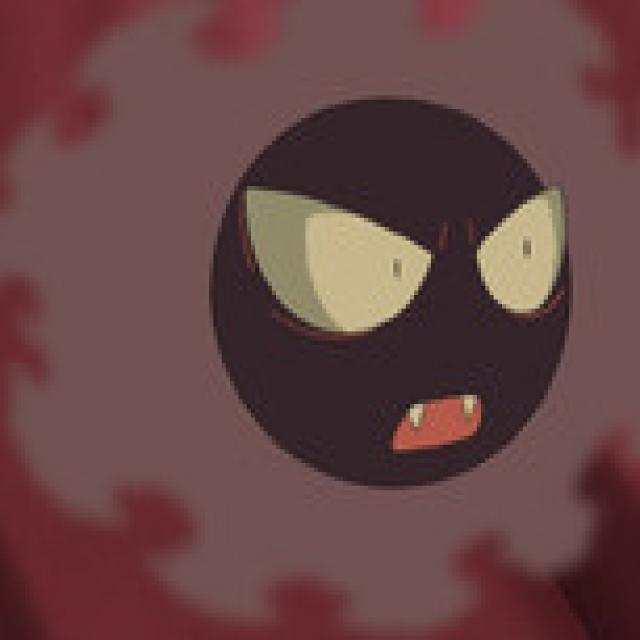Gastly: (86, 30, 640, 534)
